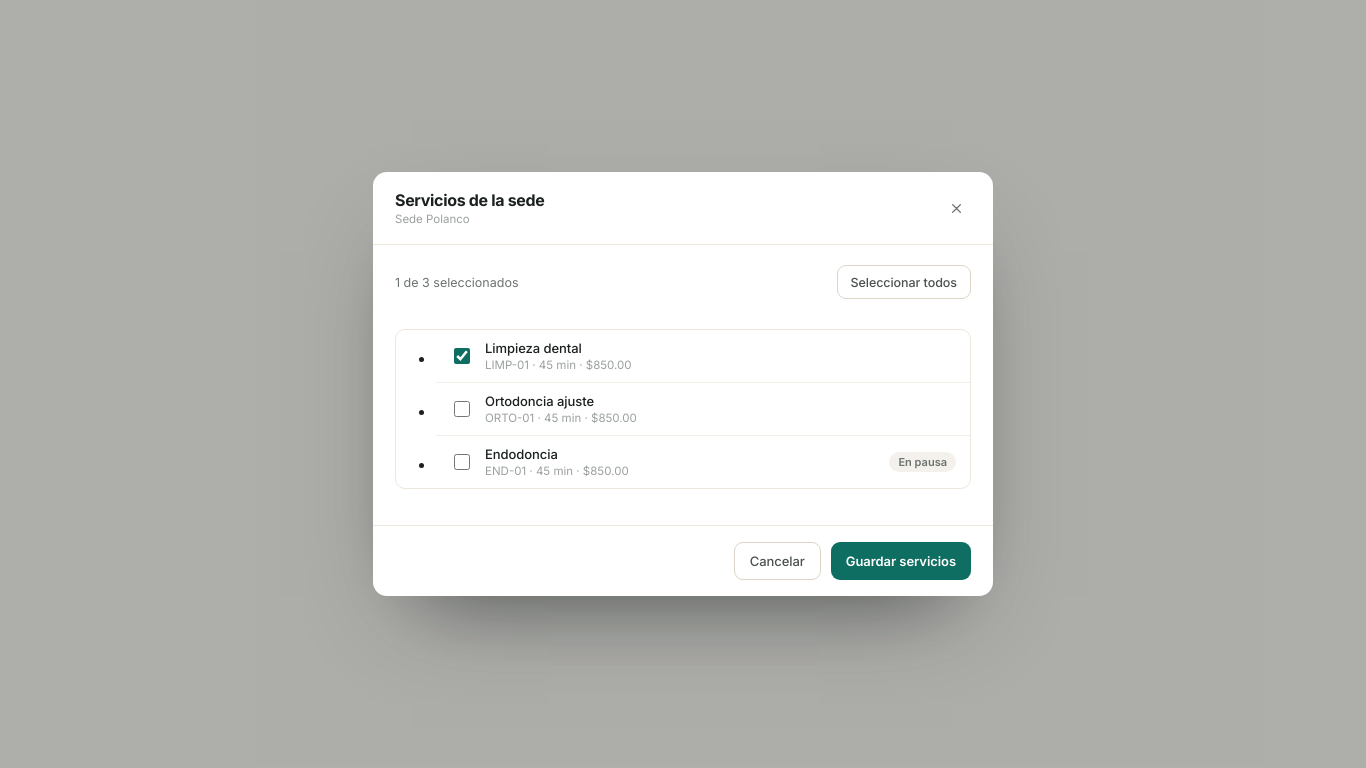
Test: LocationServicesModal saving › shows the server message and stays open when saving fails
What coordinates should you click on to do the following:
click the button "Guardar servicios"
I would click on:
 (901, 561)
Its box is [831,542,971,580].
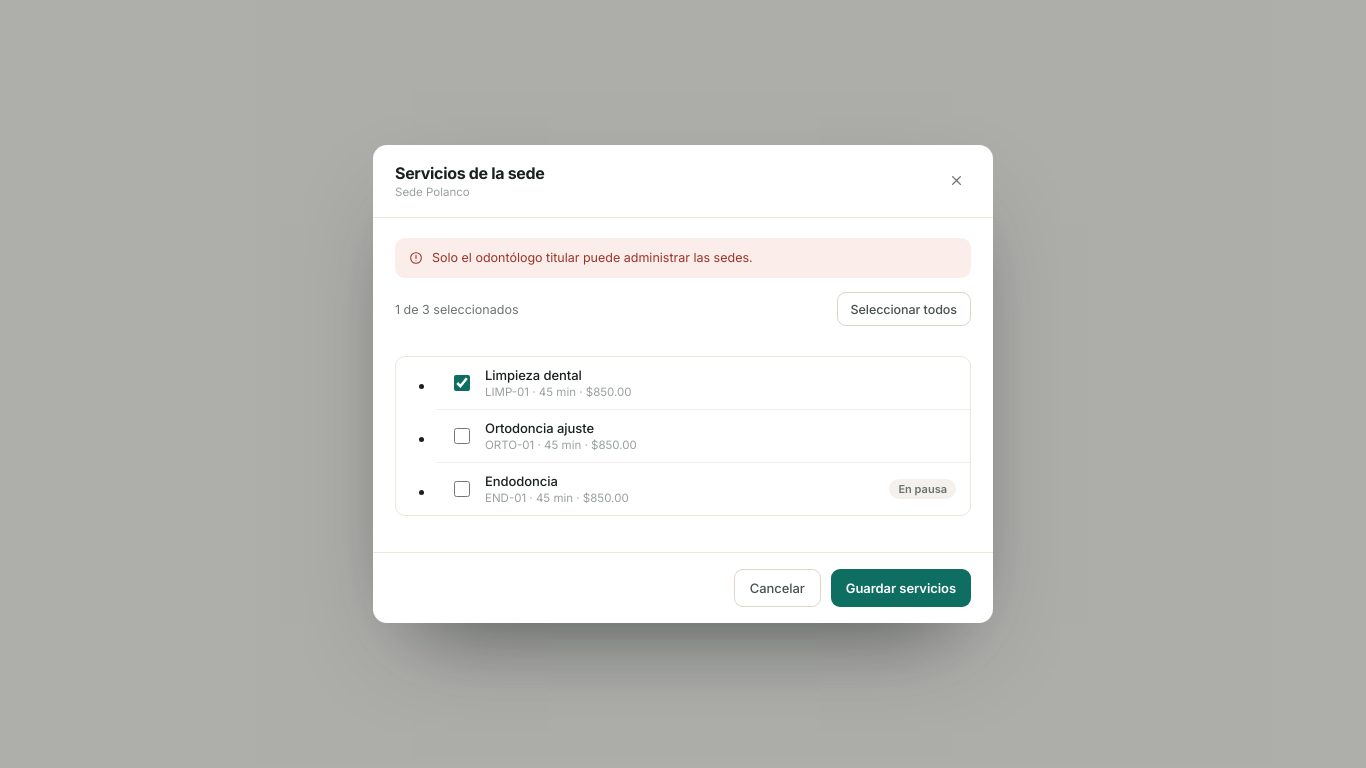
Result: the text "Solo el odontólogo titular puede administrar las sedes." is shown at [432,249,753,267]
